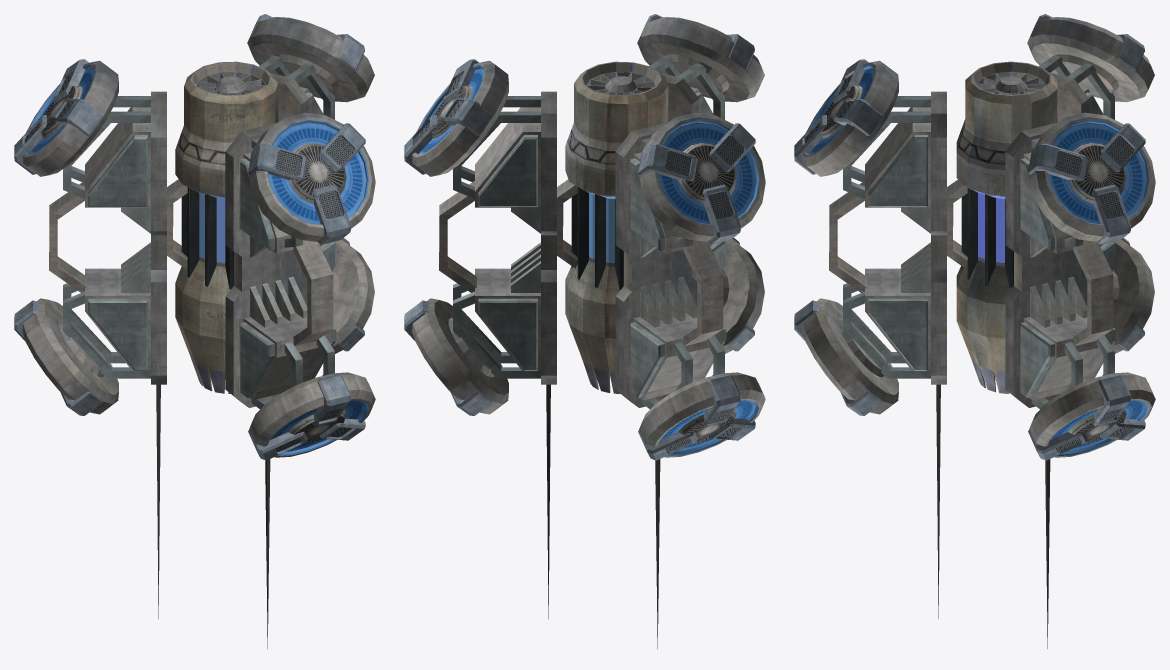
The model's file is Reactor.glb.
The picture shows the model from 3 angles, left to right: view 1: azimuth 30°, elevation 25°; view 2: azimuth 150°, elevation 25°; view 3: azimuth 270°, elevation 25°; orthographic projection.
Parts seen in each view (by area): view 1: shieldgenerator; view 2: shieldgenerator; view 3: shieldgenerator.
Boxes of the visible parts, box(x1,y1,x2,y2) form: shieldgenerator: box(14, 14, 375, 648); shieldgenerator: box(404, 14, 765, 648); shieldgenerator: box(794, 14, 1155, 648).
Bounding box in the file's own units: 1.29 × 2.05 × 1.2.
1 material, 1 textured.
